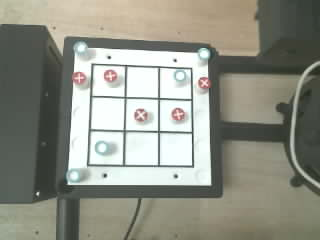blue circle: (73, 41, 87, 54), (66, 169, 80, 182), (95, 141, 108, 155), (174, 70, 187, 82), (198, 48, 210, 59)
board: (67, 42, 211, 185)
cells: (89, 132, 123, 164), (125, 132, 157, 165), (91, 97, 123, 129), (160, 133, 192, 165), (160, 100, 192, 131), (92, 65, 124, 96), (126, 99, 157, 130), (127, 67, 158, 97), (160, 68, 191, 98)
grid: (87, 64, 193, 167)
red cross: (104, 70, 118, 83), (134, 108, 147, 121), (171, 108, 185, 120), (72, 72, 85, 84), (198, 77, 211, 88)
